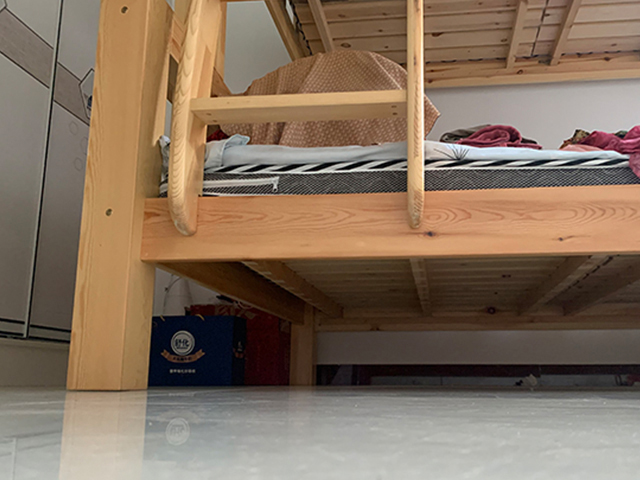bed: (67, 1, 640, 393)
cabinet: (1, 1, 99, 387)
